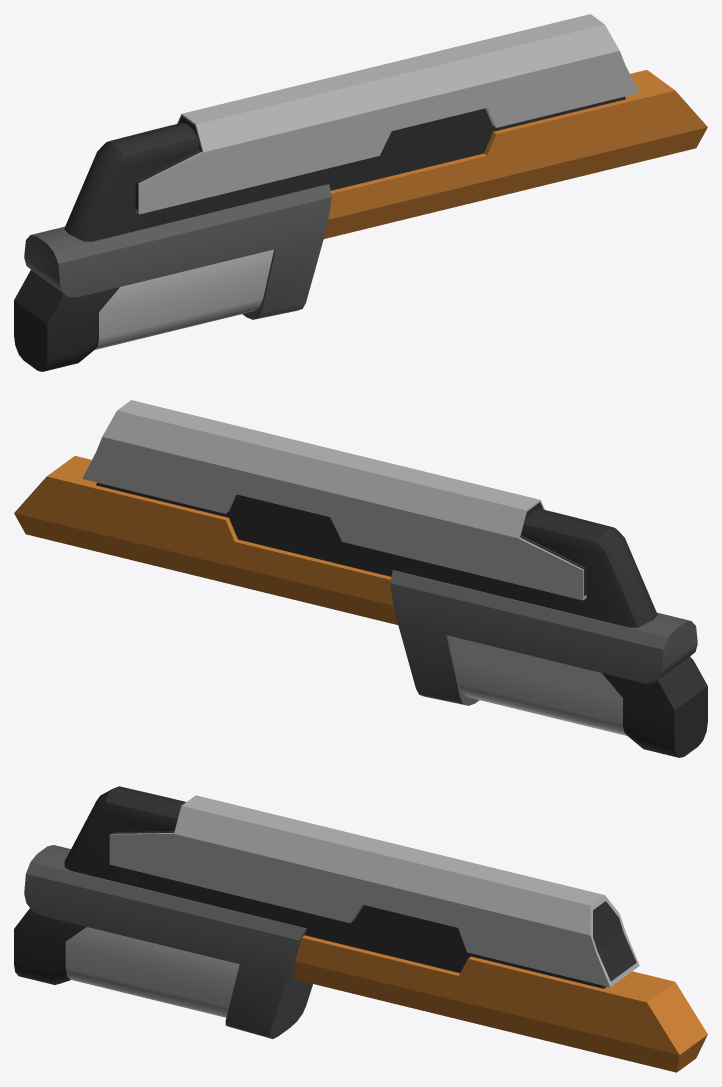
The model's file is Body_AR_5.gltf.
3 renders of one model, top to bottom at view 1: azimuth 30°, elevation 25°; view 2: azimuth 150°, elevation 25°; view 3: azimuth 330°, elevation 25°, orthographic.
Parts seen in each view (by area): view 1: Body_AR_5; view 2: Body_AR_5; view 3: Body_AR_5.
Boxes of the visible parts, box(x1,y1,x2,y2) form: Body_AR_5: box(14, 14, 707, 371); Body_AR_5: box(14, 400, 707, 757); Body_AR_5: box(14, 786, 707, 1072).
Bounding box in the file's own units: 1.23 × 0.3695 × 0.1158.
